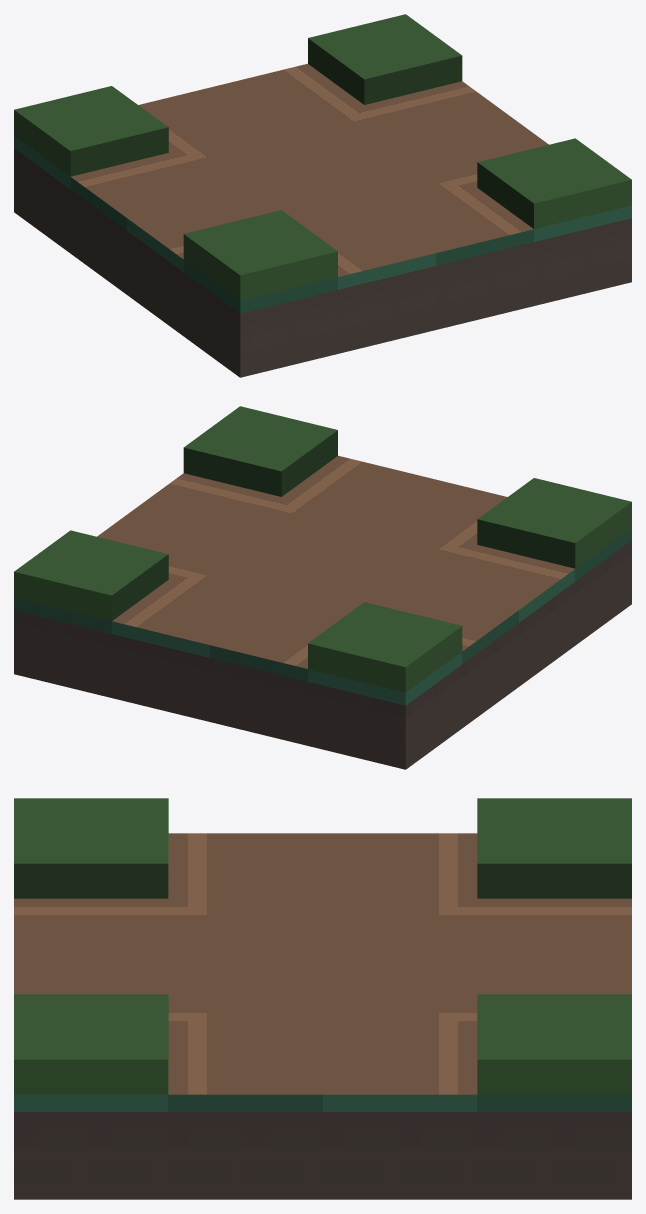
File: tile_crossroad.gltf
3 renders of one model, top to bottom at view 1: azimuth 30°, elevation 25°; view 2: azimuth 150°, elevation 25°; view 3: azimuth 270°, elevation 25°, orthographic. The views are drawn at different scales.
Visible parts, largest first — view 1: cube (×5); view 2: cube (×5); view 3: cube (×5).
Boxes of the visible parts, box(x1,y1,x2,y2) form: cube (×5): box(14, 14, 631, 377); cube (×5): box(14, 406, 631, 769); cube (×5): box(14, 798, 631, 1199).
Bounding box in the file's own units: 1 × 0.25 × 1.
1 material, 1 textured.
